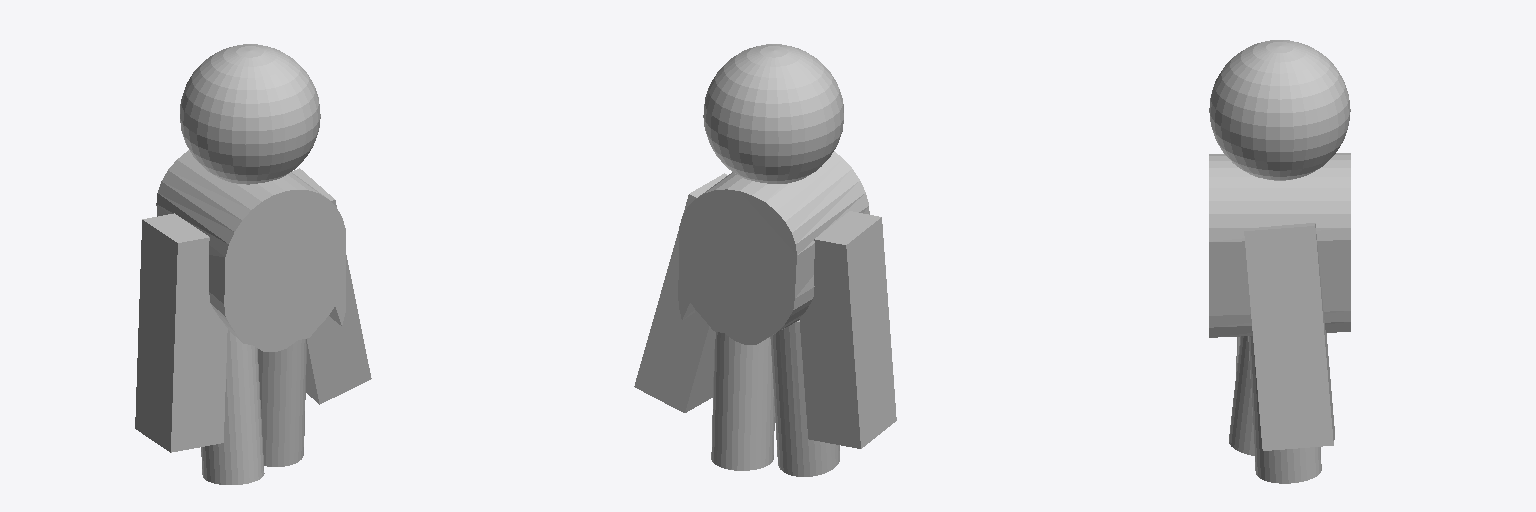
File: Figurine82.obj
3 views of the same model, side by side, from view 1: azimuth 30°, elevation 25°; view 2: azimuth 150°, elevation 25°; view 3: azimuth 270°, elevation 25° (orthographic).
Parts seen in each view (by area): view 1: Cylinder; view 2: Cylinder; view 3: Cylinder.
Boxes of the visible parts, <box> form: Cylinder: <box>135,44,371,484</box>; Cylinder: <box>634,44,896,476</box>; Cylinder: <box>1209,40,1350,483</box>.
Size of the model in its own units: 3.49 by 6.46 by 2.